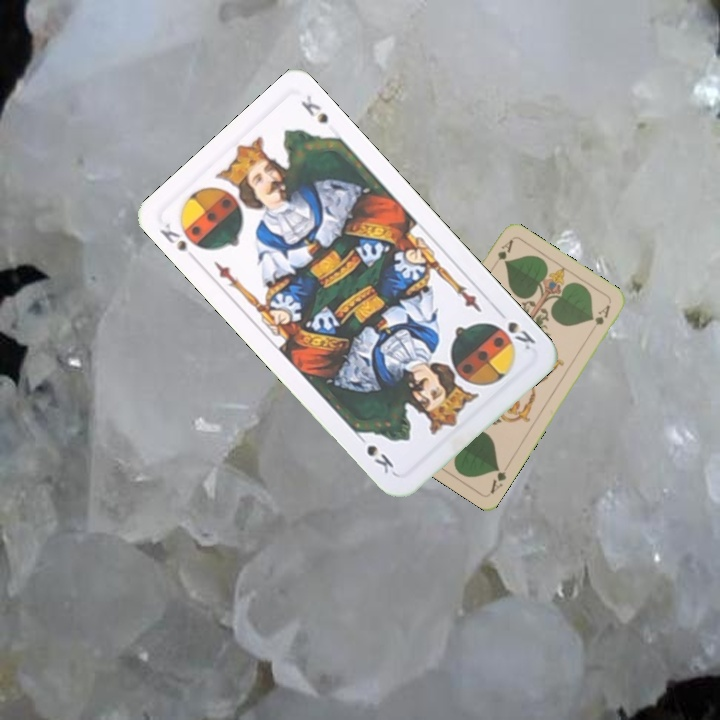GA: (487, 236, 516, 272), (486, 463, 509, 496)
SK: (155, 218, 191, 255), (503, 317, 538, 353)
